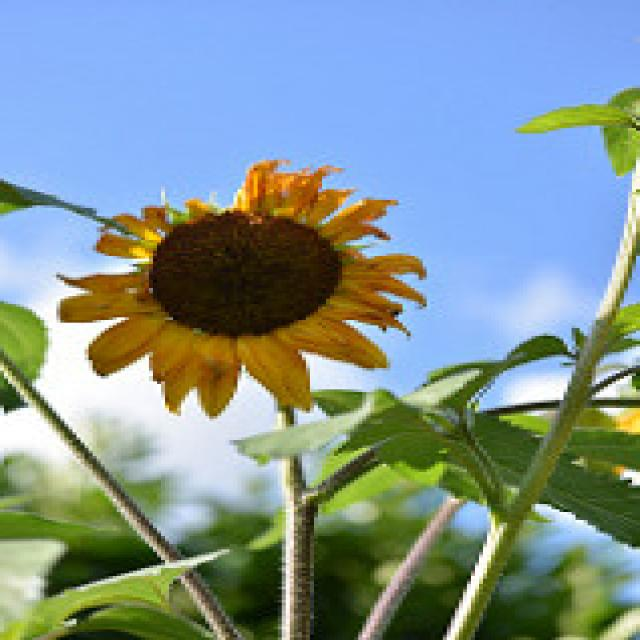sunflower: (42, 147, 433, 416)
